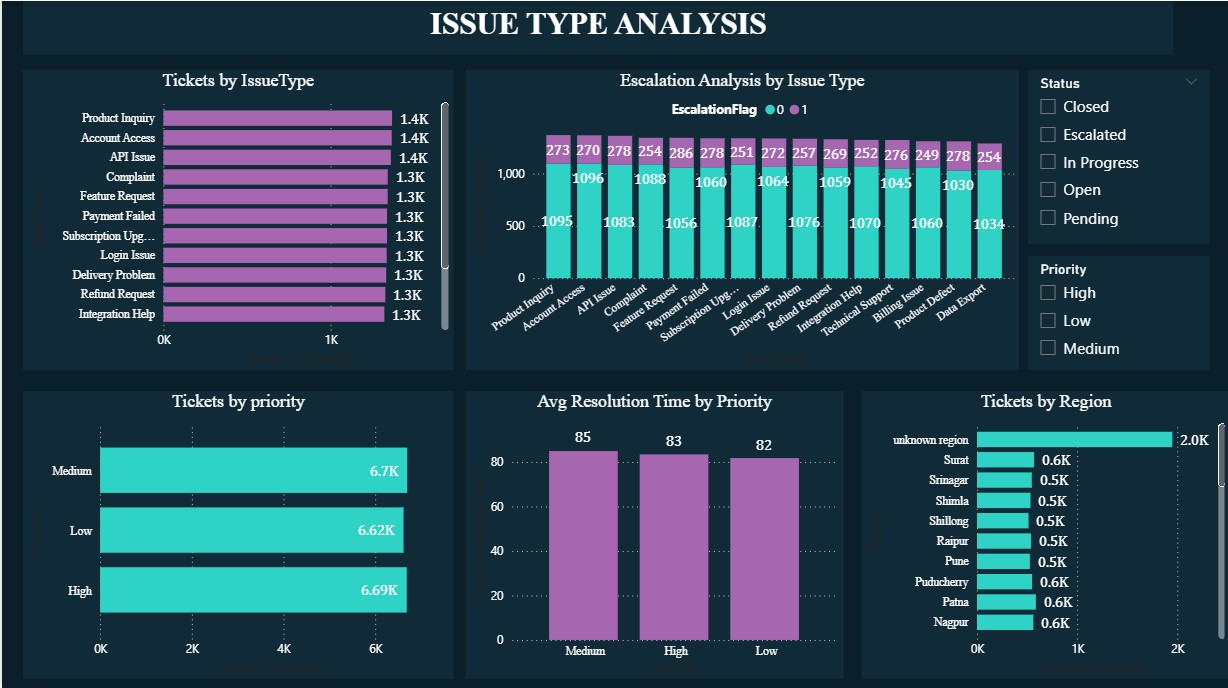

What the dashboard file says about the page in this screenshot:
{"tool":"powerbi","page":{"name":"Issue analysis","canvas":[1280,720],"ordinal":1},"visuals":[{"type":"clusteredBarChart","title":"Tickets by IssueType","fields":{"Category":["Tickets.IssueType"],"Y":["CountNonNull(Tickets.TicketID)"]},"box":[21.9,71.9,448.6,312.6],"z":4000},{"type":"columnChart","title":"Escalation Analysis by Issue Type","fields":{"Series":["Tickets.EscalationFlag"],"Category":["Tickets.IssueType"],"Y":["CountNonNull(Tickets.TicketID)"]},"box":[483,71.9,576.7,312.6],"z":9000},{"type":"slicer","fields":{"Values":["Tickets.Status"]},"box":[1069.1,71.9,189.1,181.3],"z":10000},{"type":"slicer","fields":{"Values":["Tickets.Priority"]},"box":[1069.1,265.7,189.1,118.8],"z":11000},{"type":"barChart","title":"Tickets by Region","fields":{"Category":["Tickets.Region"],"Y":["CountNonNull(Tickets.TicketID)"]},"box":[895.6,406.4,384.5,300.1],"z":12000},{"type":"textbox","box":[21.9,0,1198.8,56.3],"z":13000},{"type":"barChart","title":"Tickets by priority","fields":{"Category":["Tickets.Priority"],"Y":["CountNonNull(Tickets.TicketID)"]},"box":[21.9,406.4,448.6,300.1],"z":14000},{"type":"clusteredColumnChart","fields":{"Category":["Tickets.Priority"],"Y":["Tickets.Avg Resolution Time"]},"box":[483,406.4,393.9,300.1],"z":15000}]}

Visuals, with their boxes in screenshot pixels (x1, y1, x2, y2), scaled from the page's 1280x720 canvas onto the 1228x688 screenshot:
"Tickets by IssueType" clusteredBarChart: box(21, 69, 451, 367)
"Escalation Analysis by Issue Type" columnChart: box(463, 69, 1017, 367)
slicer - Tickets.Status: box(1026, 69, 1207, 242)
slicer - Tickets.Priority: box(1026, 254, 1207, 367)
"Tickets by Region" barChart: box(859, 388, 1227, 675)
textbox: box(21, 0, 1171, 54)
"Tickets by priority" barChart: box(21, 388, 451, 675)
clusteredColumnChart - Tickets.Priority x Tickets.Avg Resolution Time: box(463, 388, 841, 675)
